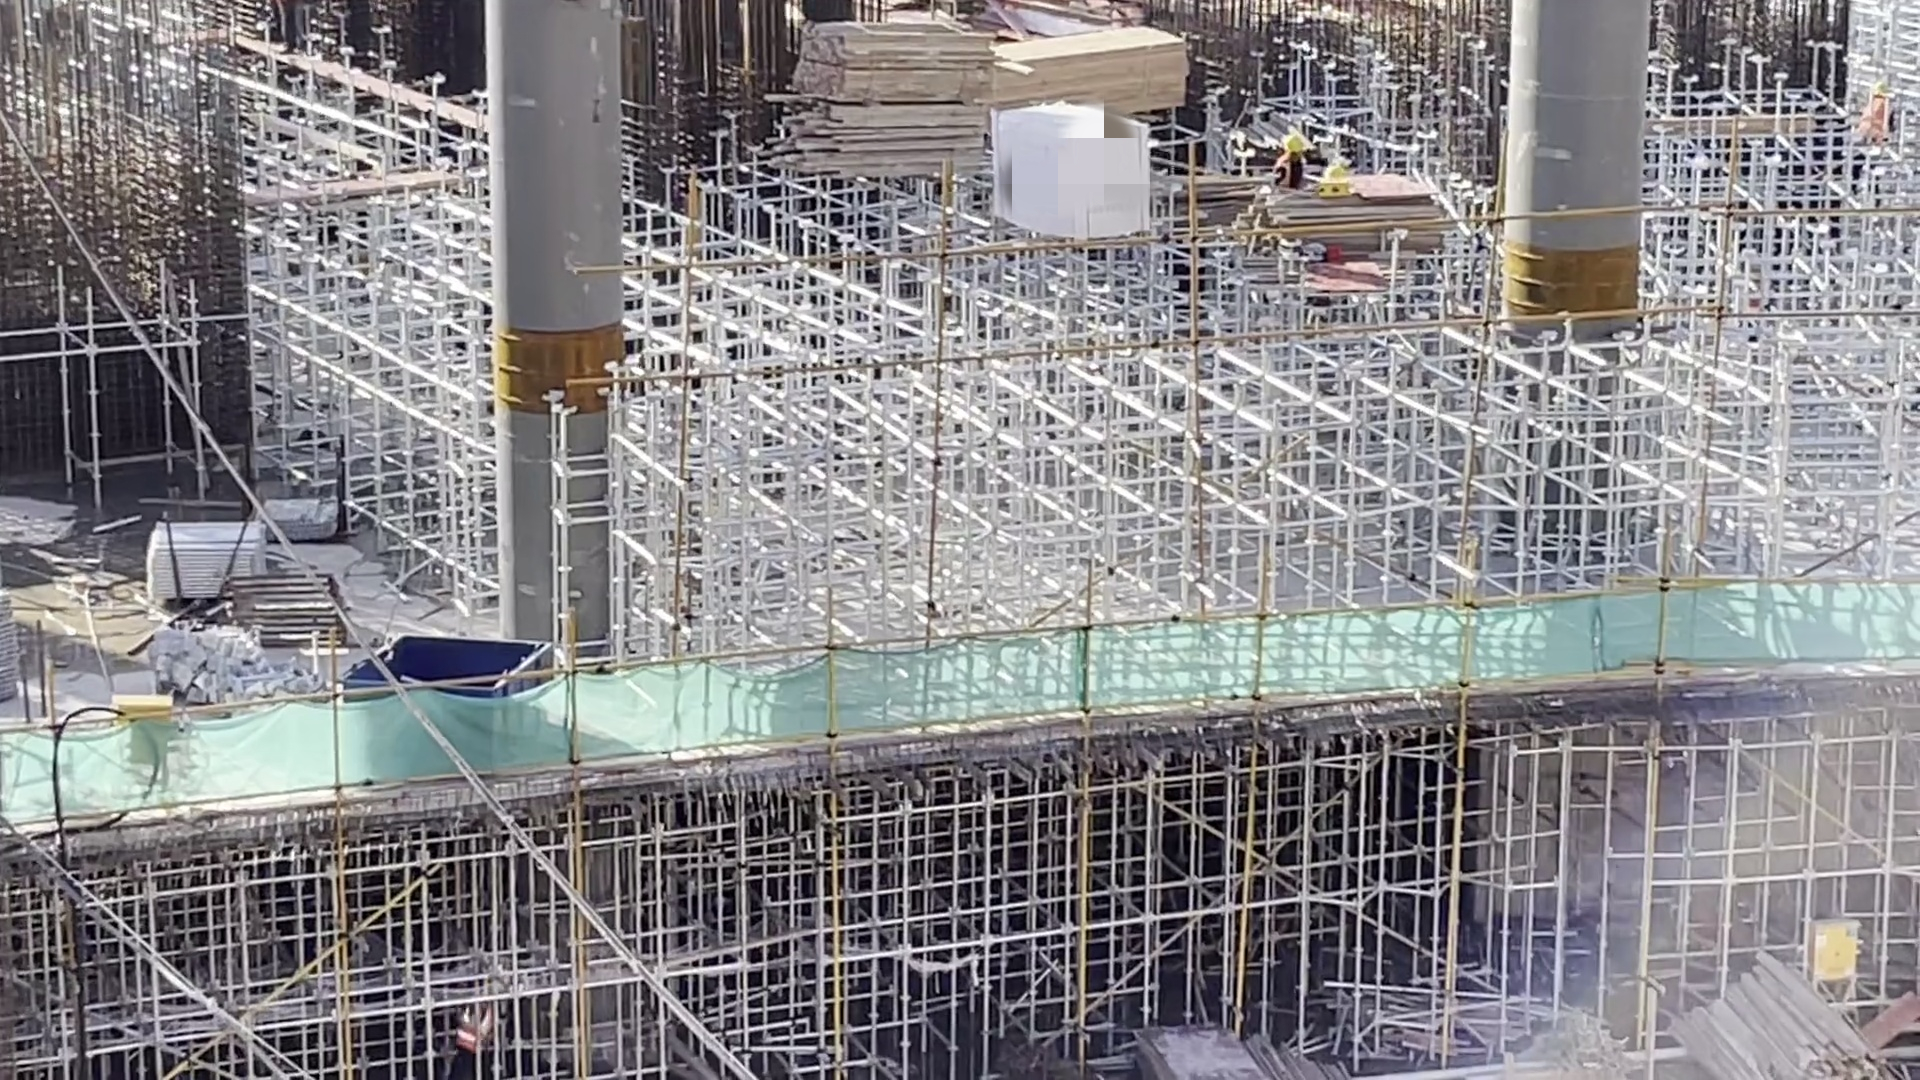board: (1278, 177, 1449, 264)
ebox: (109, 676, 156, 801), (1804, 919, 1868, 982)
helmet: (486, 982, 513, 1006), (1878, 82, 1901, 106), (1286, 132, 1309, 152)
hopper: (361, 616, 576, 792)
person: (454, 967, 521, 1080), (1864, 65, 1904, 173), (1261, 130, 1311, 188)
scaffold: (143, 522, 268, 599)
vest: (1269, 157, 1309, 191), (476, 1011, 509, 1026)
wood: (823, 42, 1019, 207), (1726, 952, 1882, 1080), (1006, 31, 1161, 117)
